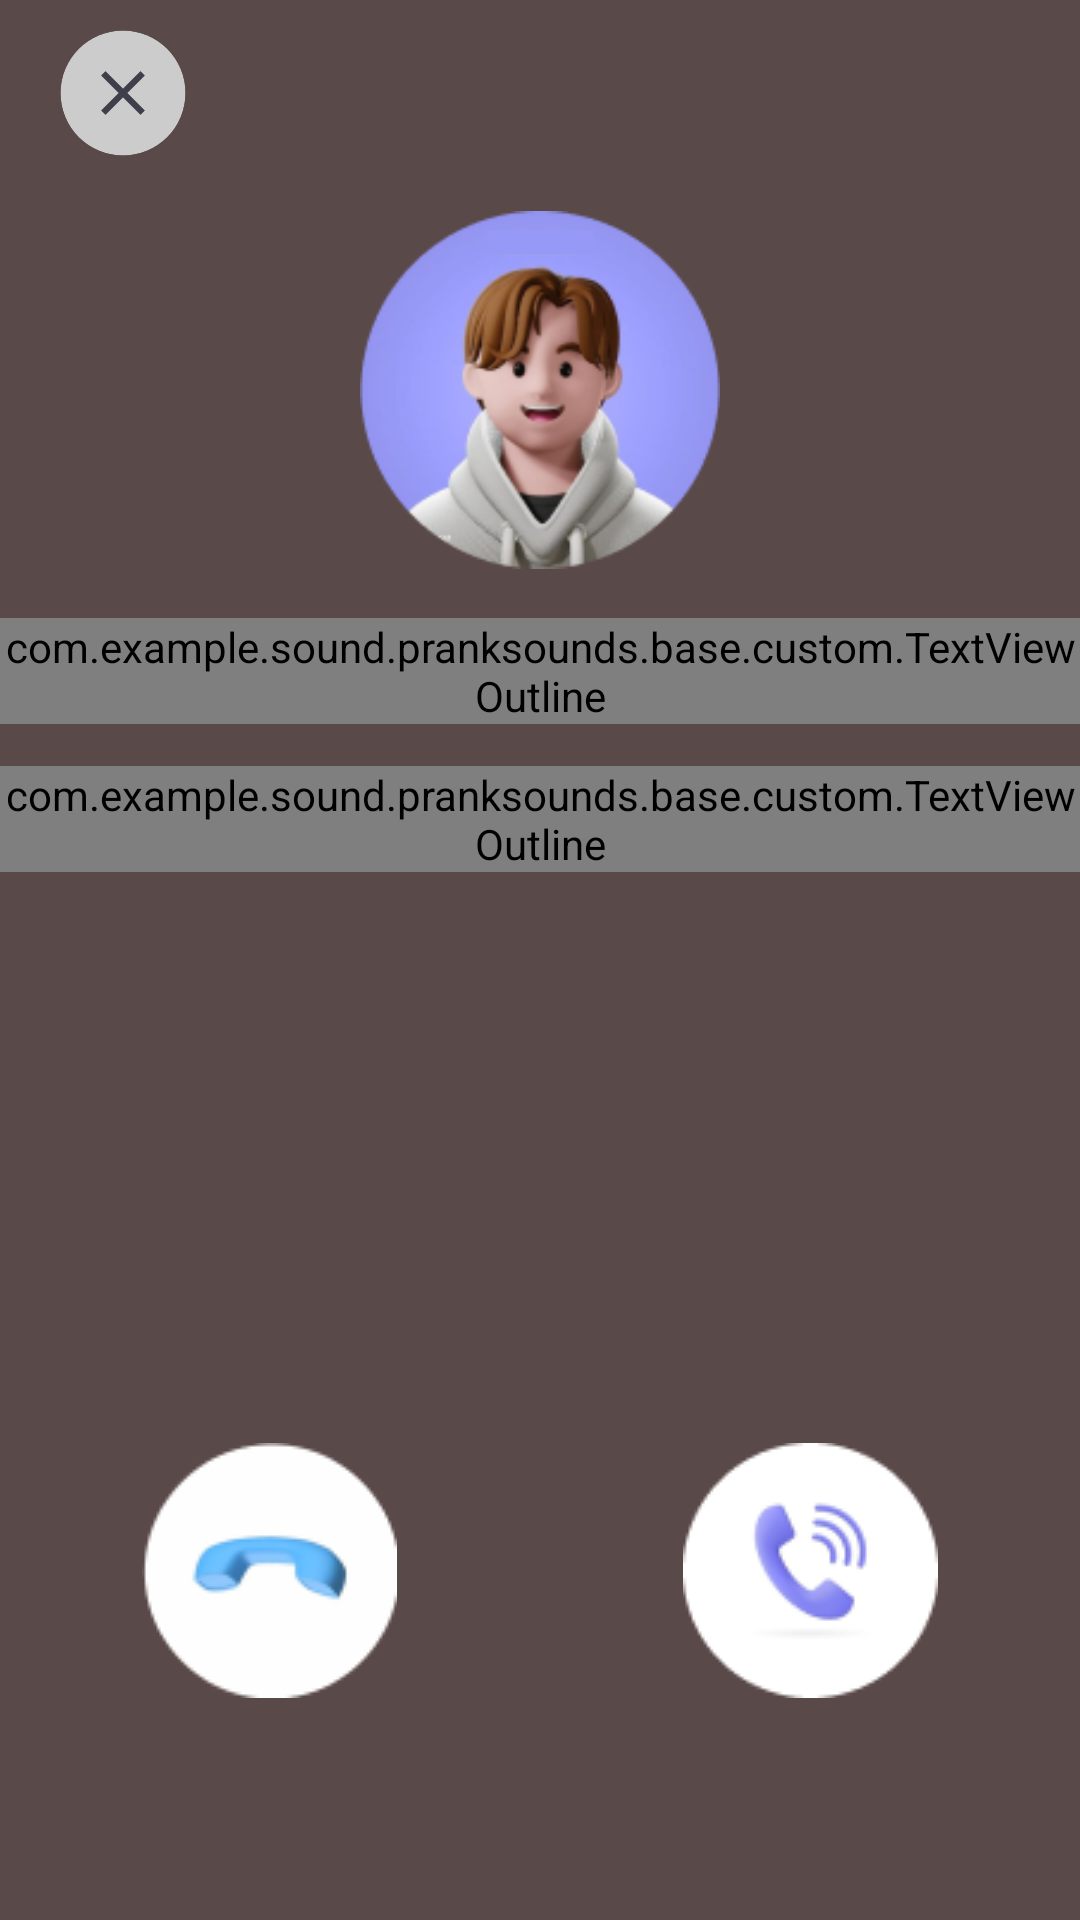

Where to tap for icons on this 1080 x 1920 app screen, as (x,y):
avater: (540,390)
call: (270,1570), (810,1570)
close: (123,93)
